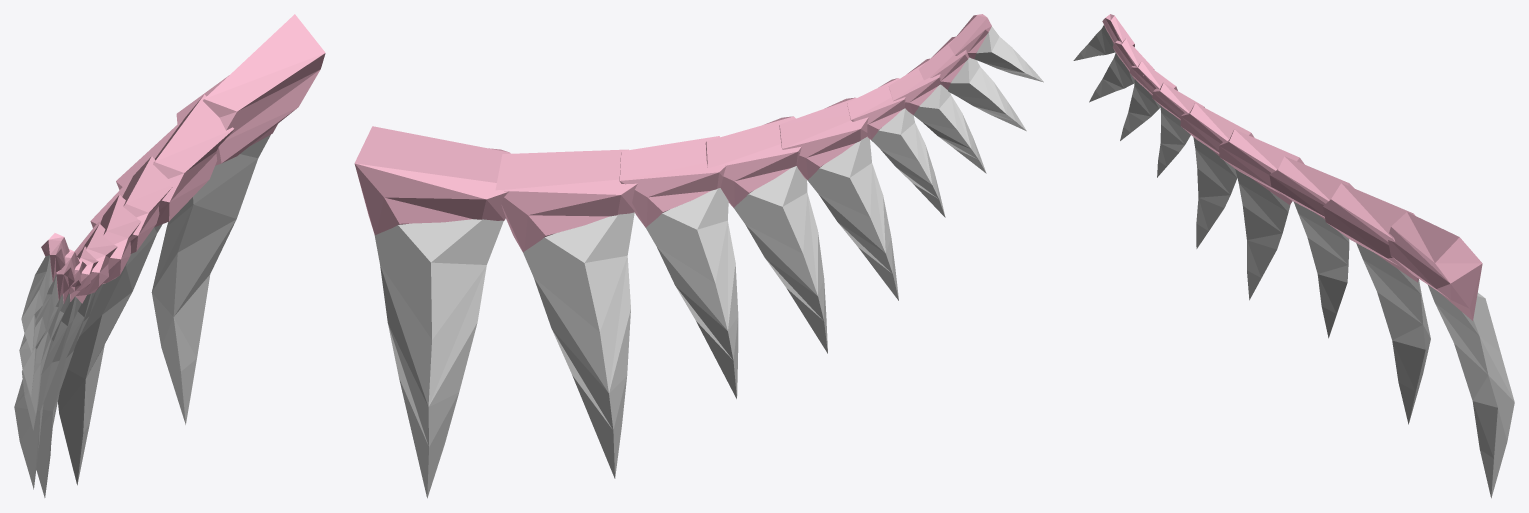
3 renders of one model, left to right at view 1: azimuth 30°, elevation 25°; view 2: azimuth 150°, elevation 25°; view 3: azimuth 270°, elevation 25°, orthographic. The views are drawn at different scales.
Visible parts, largest first — view 1: group_1688784022, mesh_1035787740, group_2041456493, mesh_46180860, group_530824527, mesh_160464841, group_998101702, mesh_2073799731, group_1978742188, group_2039307575, mesh_583642357, group_1527949928 (+4 smaller); view 2: group_1688784022, group_2041456493, mesh_1035787740, mesh_46180860, group_1513417120, group_998101702, group_530824527, mesh_160464841, mesh_2073799731, mesh_583642357, group_1348373432, group_1527949928 (+6 smaller); view 3: group_1688784022, mesh_1035787740, group_2041456493, mesh_46180860, group_998101702, group_1513417120, group_530824527, mesh_160464841, mesh_2073799731, mesh_583642357, group_1348373432, group_1527949928 (+6 smaller).
Boxes of the visible parts, x1,y1,x2,y2 form: group_1688784022: [151, 135, 270, 424]; mesh_1035787740: [176, 14, 325, 165]; group_2041456493: [58, 224, 162, 485]; mesh_46180860: [116, 94, 233, 226]; group_530824527: [14, 296, 81, 489]; mesh_160464841: [90, 156, 172, 253]; group_998101702: [36, 292, 95, 497]; mesh_2073799731: [75, 194, 141, 284]; group_1978742188: [19, 274, 58, 396]; group_2039307575: [21, 255, 52, 354]; mesh_583642357: [75, 224, 117, 303]; group_1527949928: [26, 293, 63, 415]; group_1688784022: [374, 219, 503, 498]; group_2041456493: [523, 212, 634, 478]; mesh_1035787740: [354, 126, 510, 235]; mesh_46180860: [495, 149, 637, 252]; group_1513417120: [646, 188, 738, 398]; group_998101702: [734, 166, 827, 353]; group_530824527: [807, 137, 898, 300]; mesh_160464841: [619, 136, 726, 227]; mesh_2073799731: [705, 116, 801, 207]; mesh_583642357: [779, 97, 868, 180]; group_1348373432: [871, 108, 945, 217]; group_1527949928: [913, 84, 986, 173]; group_1688784022: [1428, 285, 1514, 498]; mesh_1035787740: [1388, 212, 1482, 320]; group_2041456493: [1356, 243, 1430, 424]; mesh_46180860: [1323, 183, 1418, 282]; group_998101702: [1235, 169, 1290, 300]; group_1513417120: [1294, 202, 1349, 338]; group_530824527: [1193, 137, 1237, 248]; mesh_160464841: [1269, 156, 1354, 219]; mesh_2073799731: [1219, 129, 1304, 204]; mesh_583642357: [1180, 103, 1254, 168]; group_1348373432: [1157, 105, 1190, 177]; group_1527949928: [1120, 79, 1160, 140].
Bounding box in the file's own units: 90.88 × 75.66 × 87.65.
